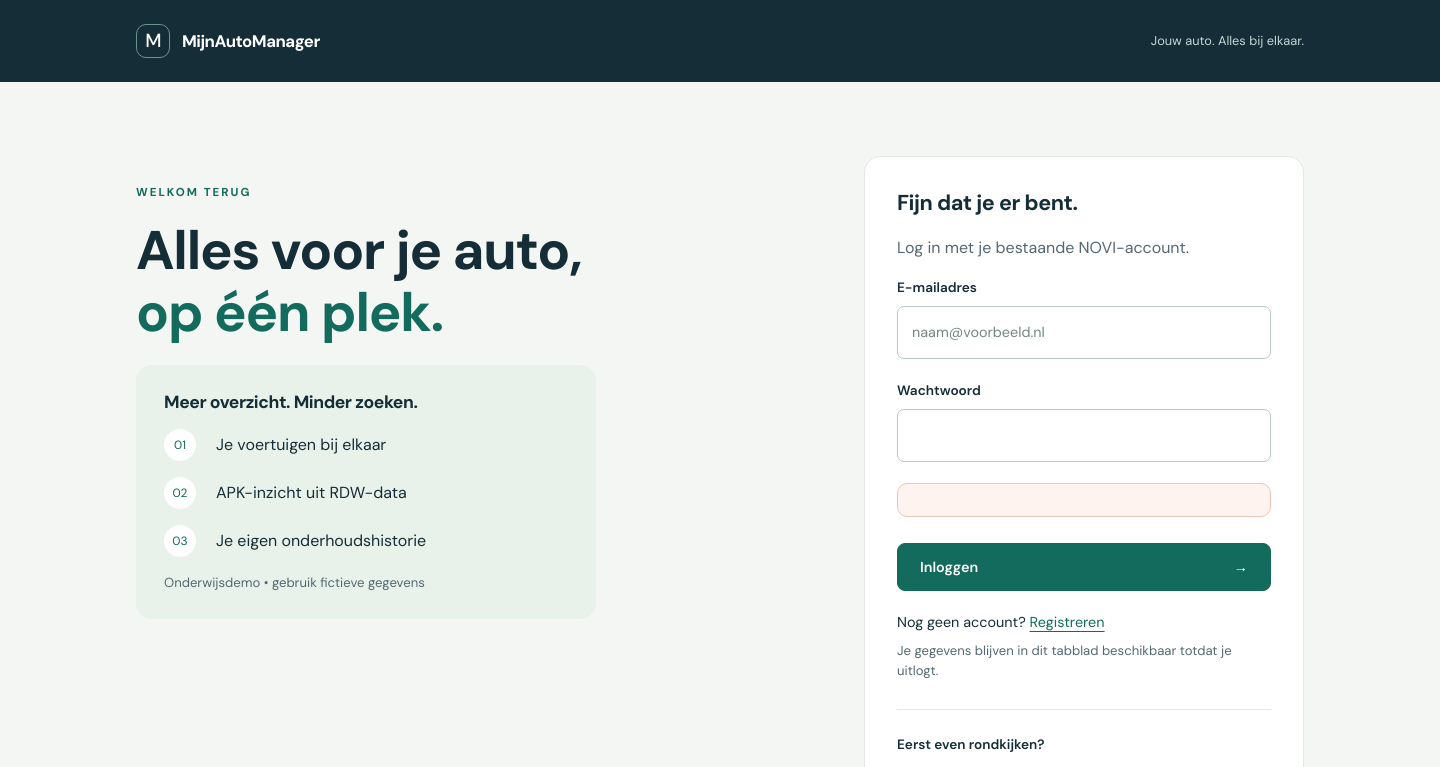
Test: eerste bouwstap › opent het overzicht pas na login en unieke gebruikerskoppeling
The width and height of the screenshot is (1440, 767).
Type "a@example.com" into the field labelled "E-mailadres" at (1084, 332), box [897,306,1271,359]
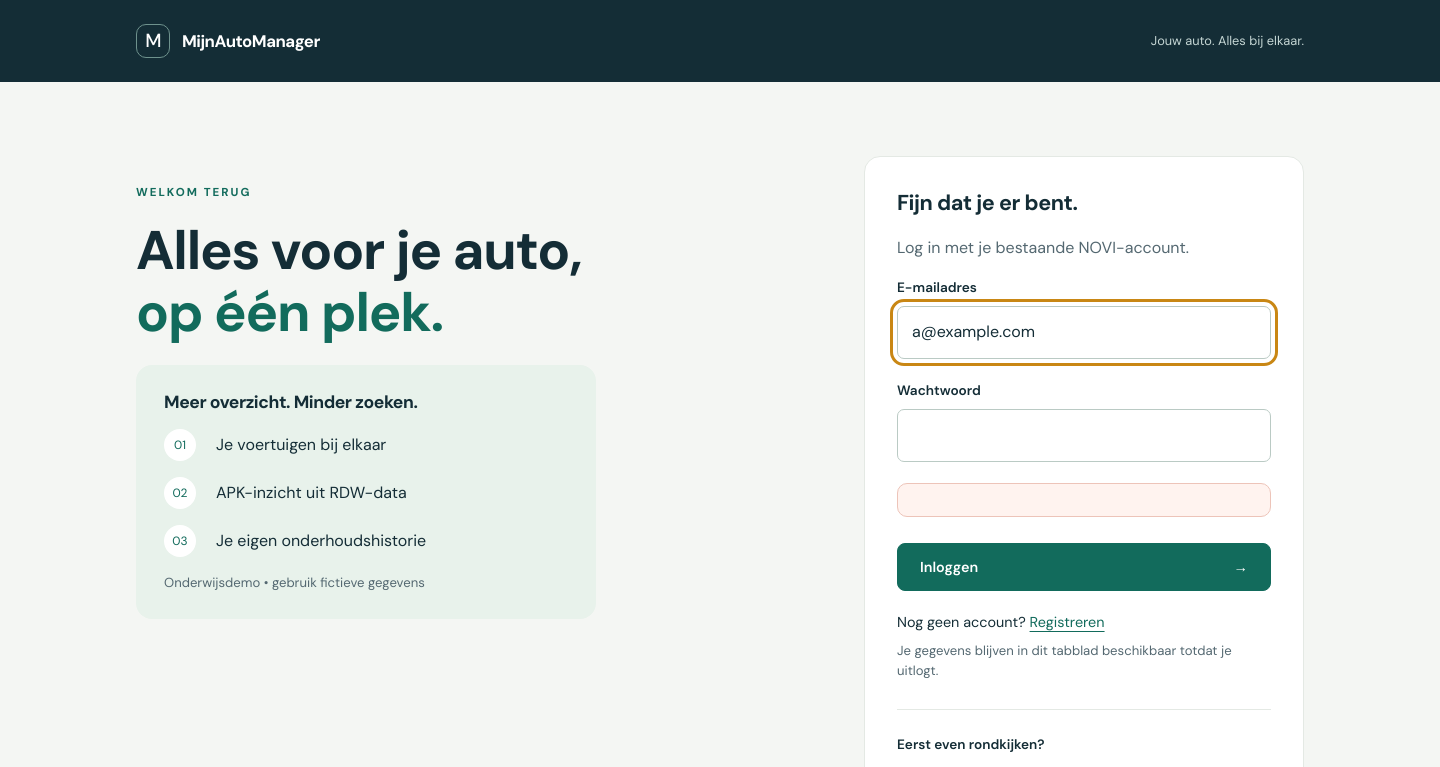
Type "fictief-testinvoer" into the password field labelled "Wachtwoord" at (1084, 435), box [897,409,1271,462]
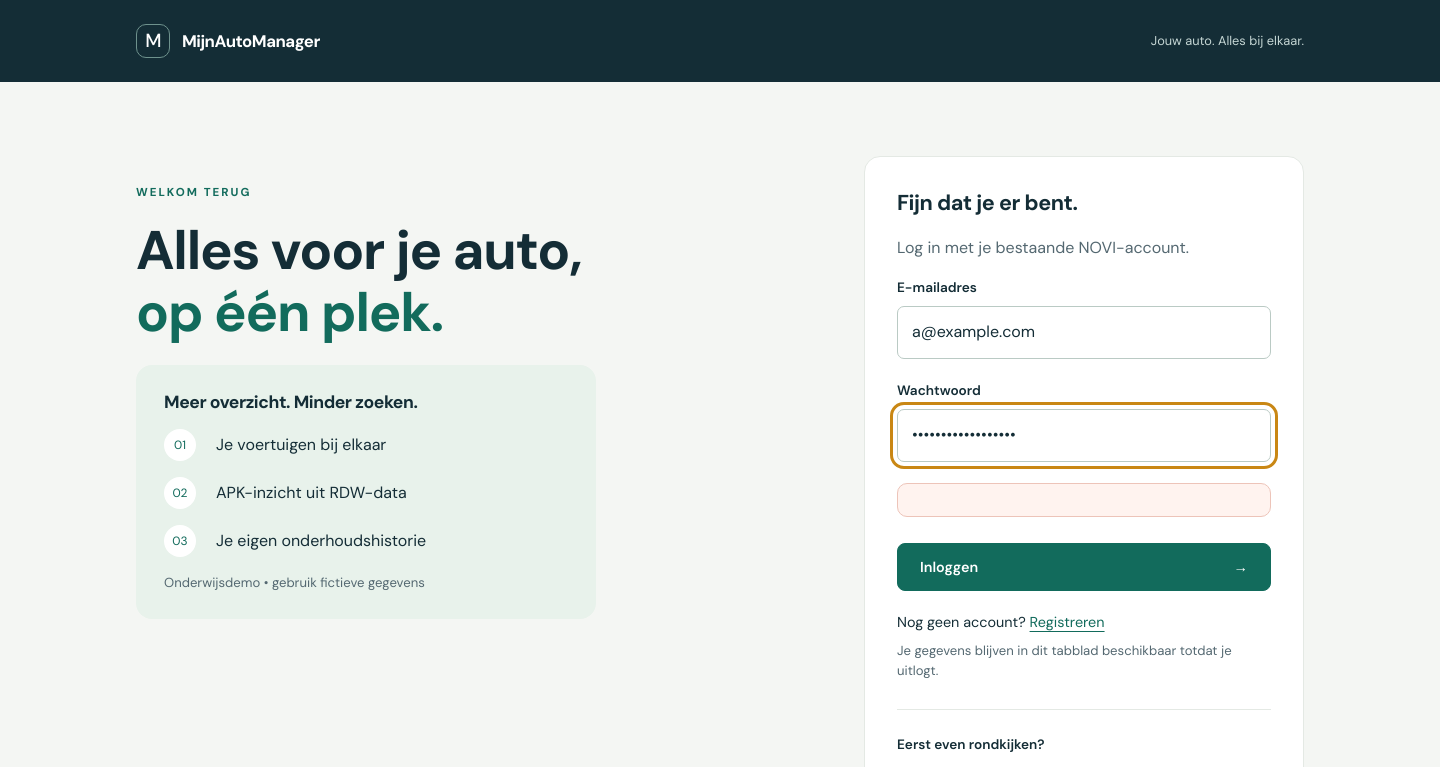
Click the button "Inloggen →" at (949, 567), box [897,543,1271,591]
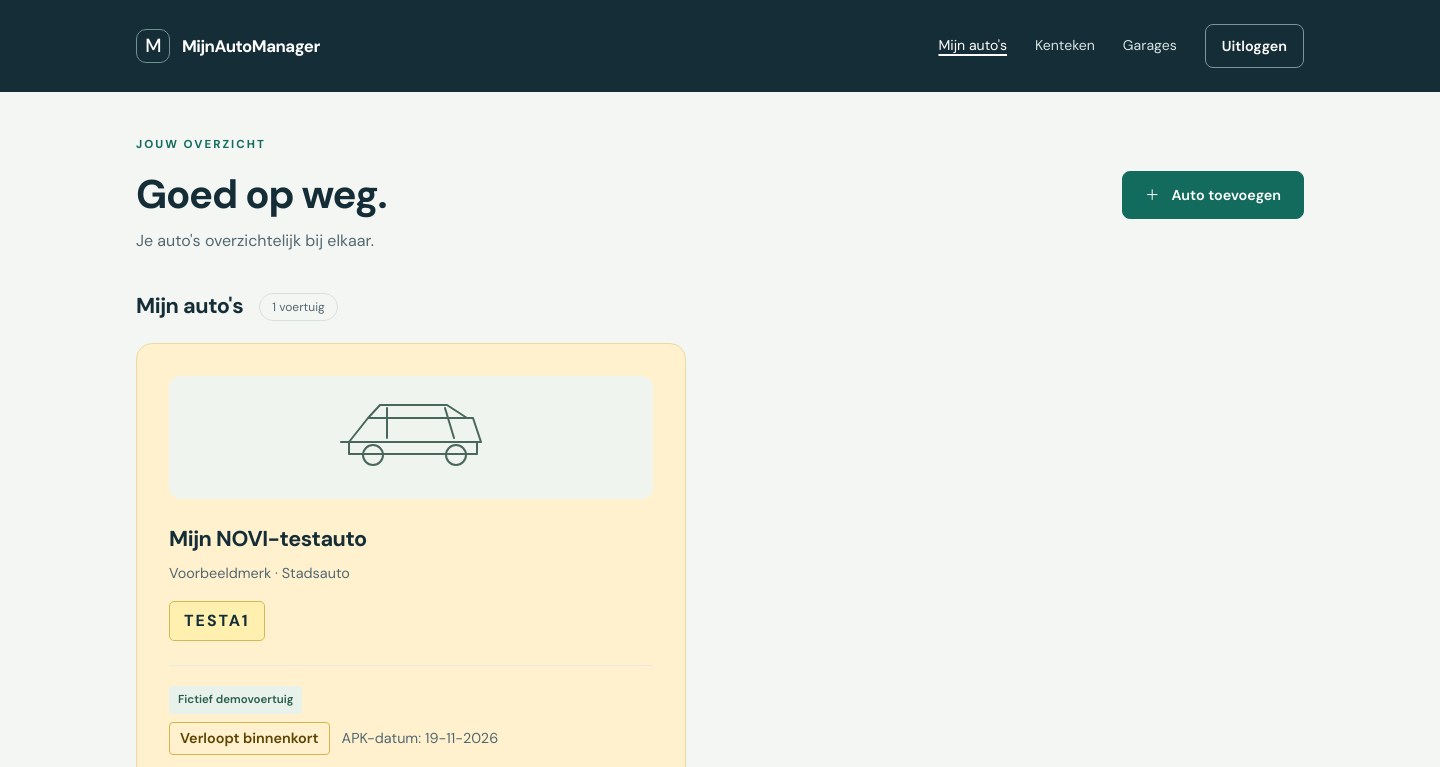
Now the heading "Mijn NOVI-testauto" is shown, box [169,525,367,553]
